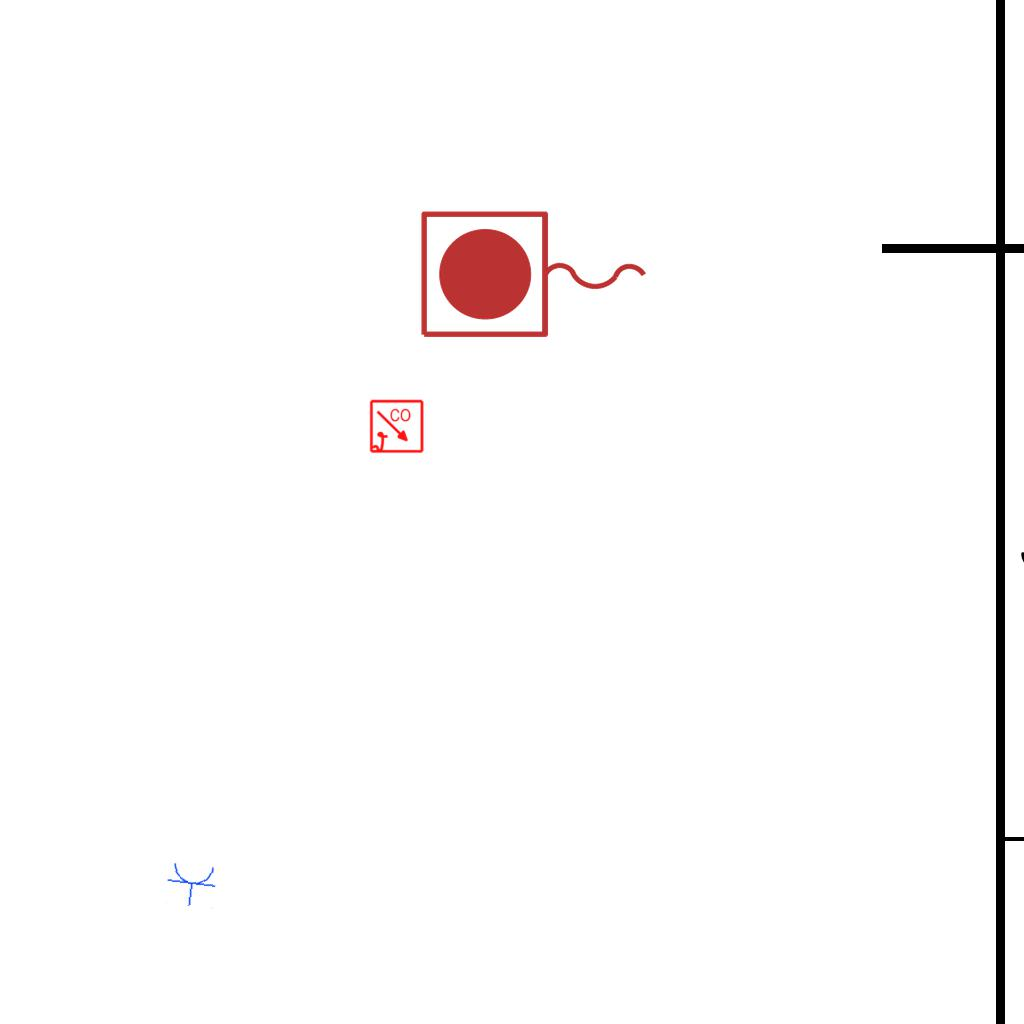ROA_Rauchmelder_optisch_mit_Signalgeber_(Sockelsirene): (369, 399, 425, 455)
Schukosteckdose_einfach: (164, 860, 220, 909)
Zugtaster: (413, 204, 657, 348)
